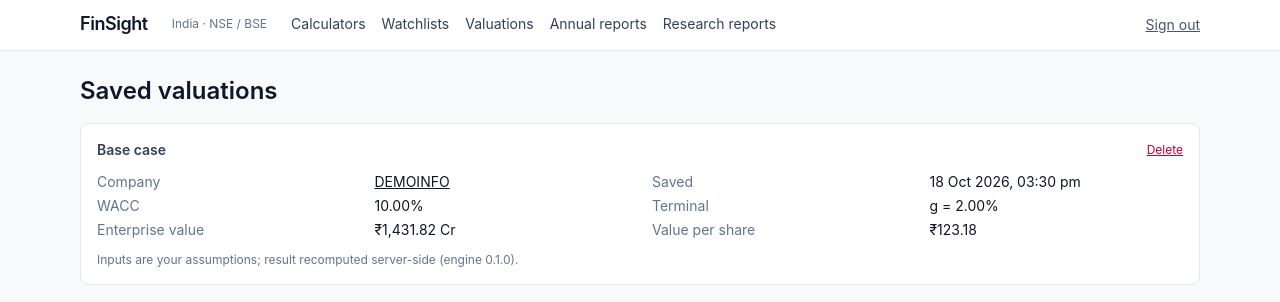
Test case: watchlists and saved valuations › lists and deletes saved valuations
The image size is (1280, 302).
Expected: the text "₹1,431.82 Cr" is shown, x1=374 y1=221 x2=456 y2=238
Click the button with aria-label "Delete Base case": (1165, 150) x1=1147 y1=142 x2=1183 y2=158
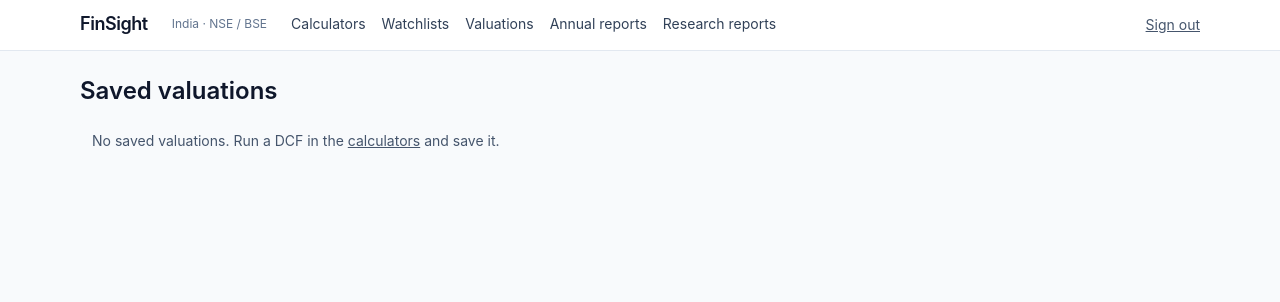
Expected: the text "No saved valuations" is shown, x1=92 y1=132 x2=348 y2=149
